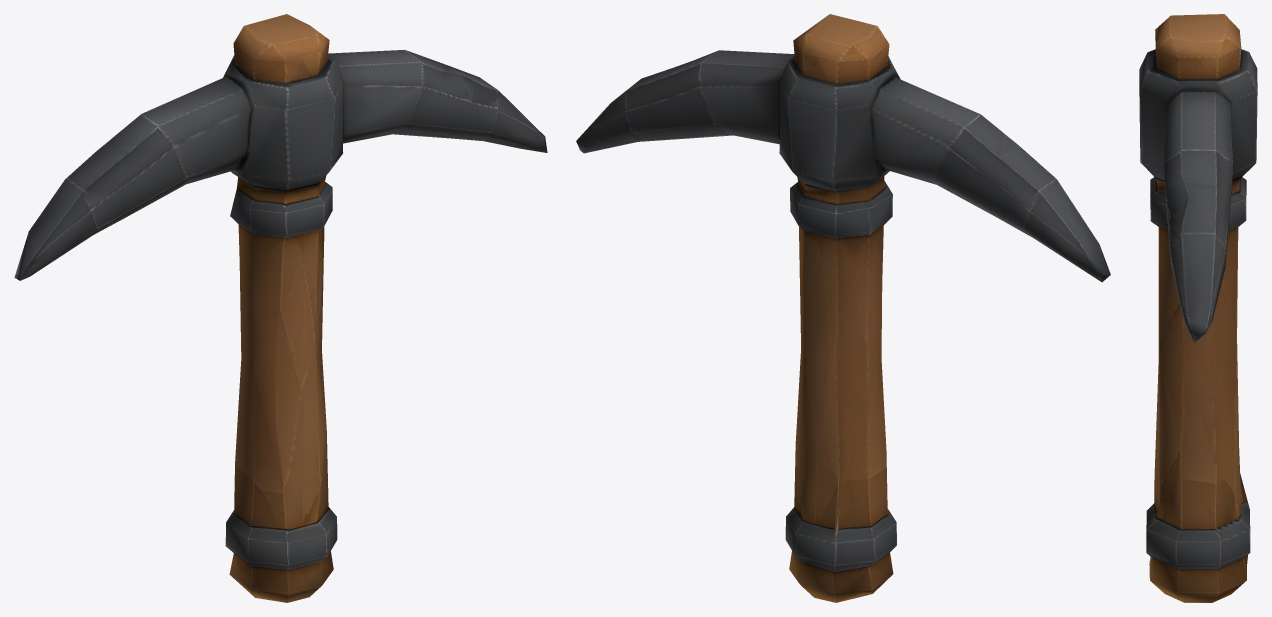
File: pickaxe.fbx
3 renders of one model, left to right at view 1: azimuth 30°, elevation 25°; view 2: azimuth 150°, elevation 25°; view 3: azimuth 270°, elevation 25°, orthographic.
Parts seen in each view (by area): view 1: tripo_node_c4947a79; view 2: tripo_node_c4947a79; view 3: tripo_node_c4947a79.
Part boxes in pixels (x1,y1,x2,y2): tripo_node_c4947a79: [14, 14, 547, 602]; tripo_node_c4947a79: [576, 14, 1110, 602]; tripo_node_c4947a79: [1139, 14, 1257, 602].
Size of the model in its own units: 99.04 by 19 by 100.
Materials: 1 (1 with a texture image).
